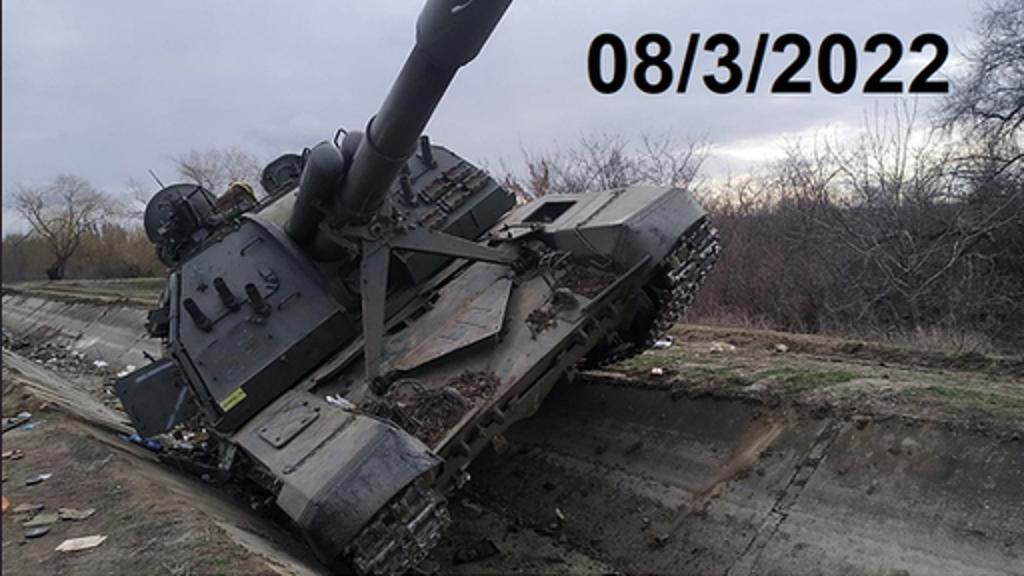ART: (102, 0, 726, 574)
